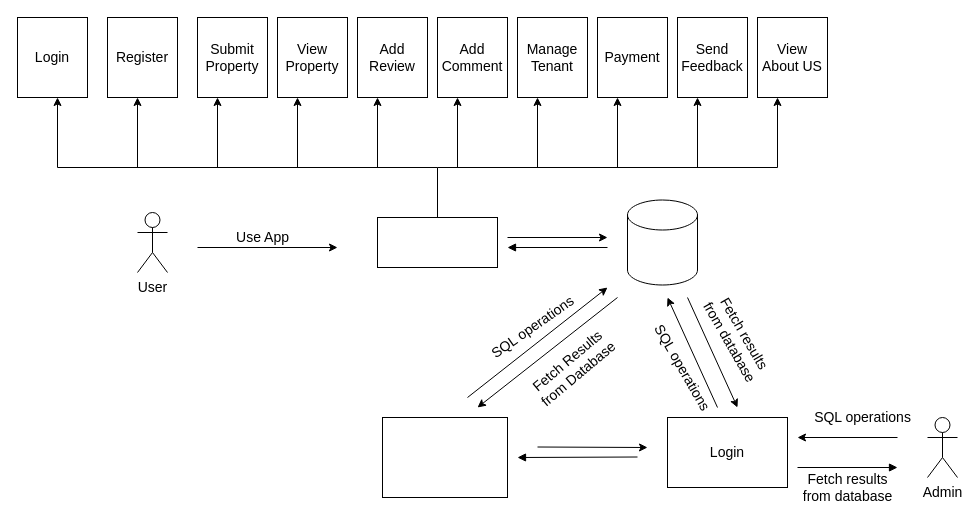
The diagram is 980 pixels wide and 525 high, and some of its shapes have lost their labels. Each missing label, with the centre of its shape:
Approve Property, Add Blog, Add Contact Us: the point at 445,457
My SQL Database: the point at 662,242
Rent Ghar Application: the point at 437,242
